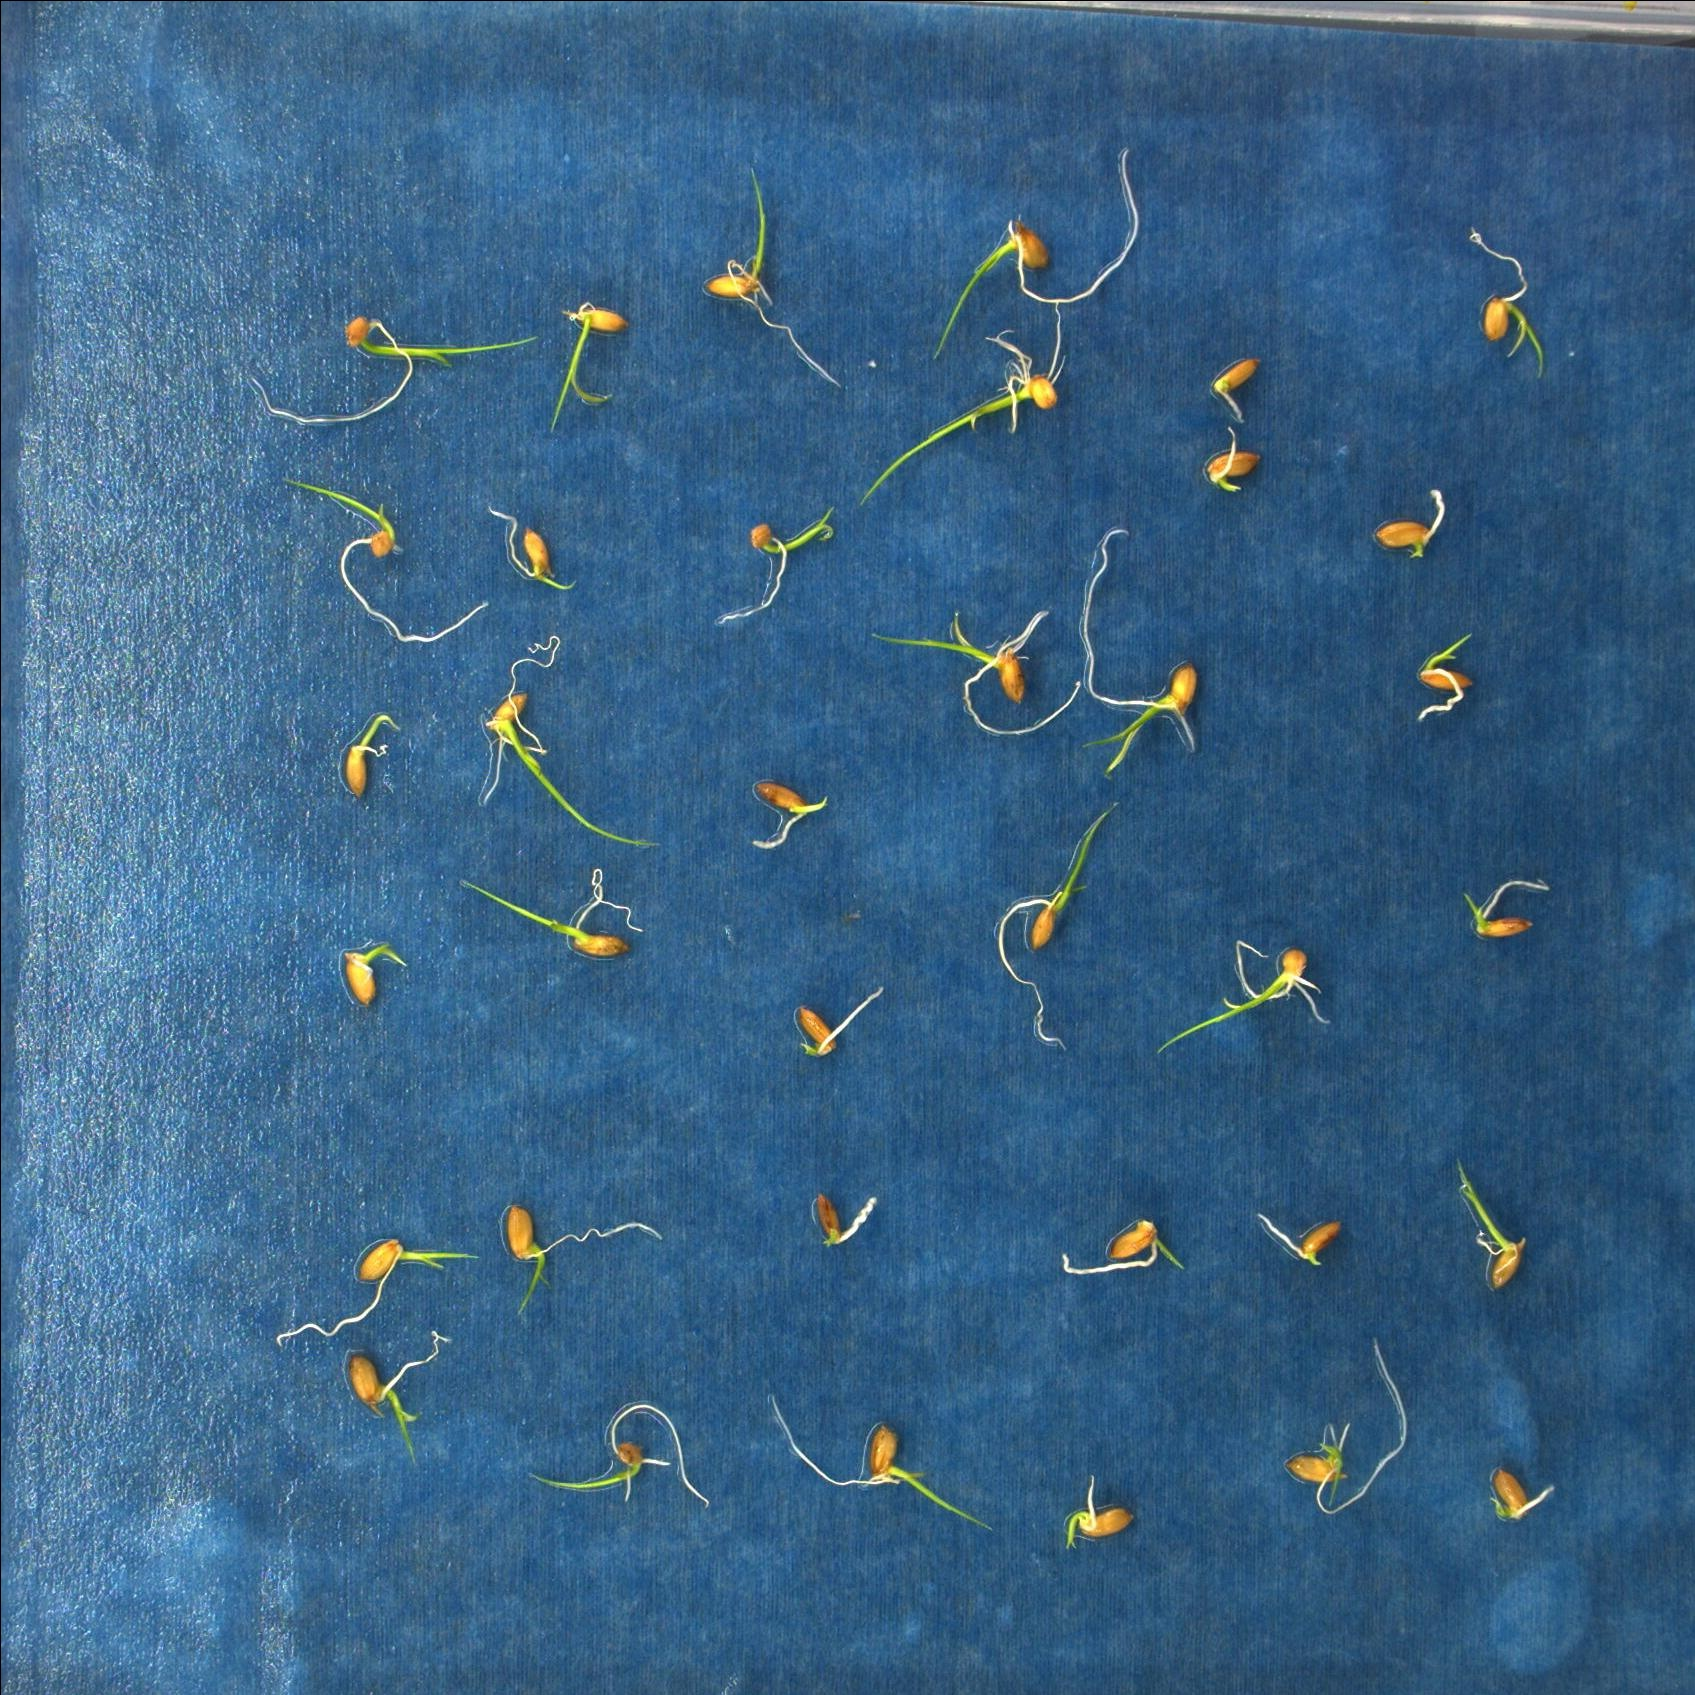not sprout: (784, 983, 891, 1059), (1367, 481, 1444, 567), (1189, 418, 1267, 497), (1253, 1205, 1340, 1267), (807, 1183, 880, 1250), (1206, 352, 1263, 421)
sprout: (938, 141, 1152, 369), (849, 300, 1077, 504), (466, 638, 664, 860), (248, 300, 543, 435), (757, 1381, 997, 1537), (287, 473, 494, 650), (1077, 515, 1211, 778), (860, 596, 1083, 750), (698, 165, 841, 385), (993, 795, 1111, 1049), (1284, 1336, 1417, 1529), (452, 852, 657, 969), (489, 1194, 660, 1326), (529, 1392, 719, 1510), (273, 1225, 477, 1333), (1164, 931, 1330, 1059), (716, 500, 844, 638), (335, 1329, 449, 1464), (1454, 230, 1554, 376), (542, 286, 633, 442), (1451, 1158, 1541, 1298), (487, 498, 577, 601), (1055, 1212, 1191, 1281), (1409, 621, 1485, 730), (747, 771, 829, 861), (329, 706, 404, 802), (1451, 879, 1555, 941), (1052, 1476, 1132, 1552), (1482, 1450, 1560, 1523), (337, 931, 404, 1004)
